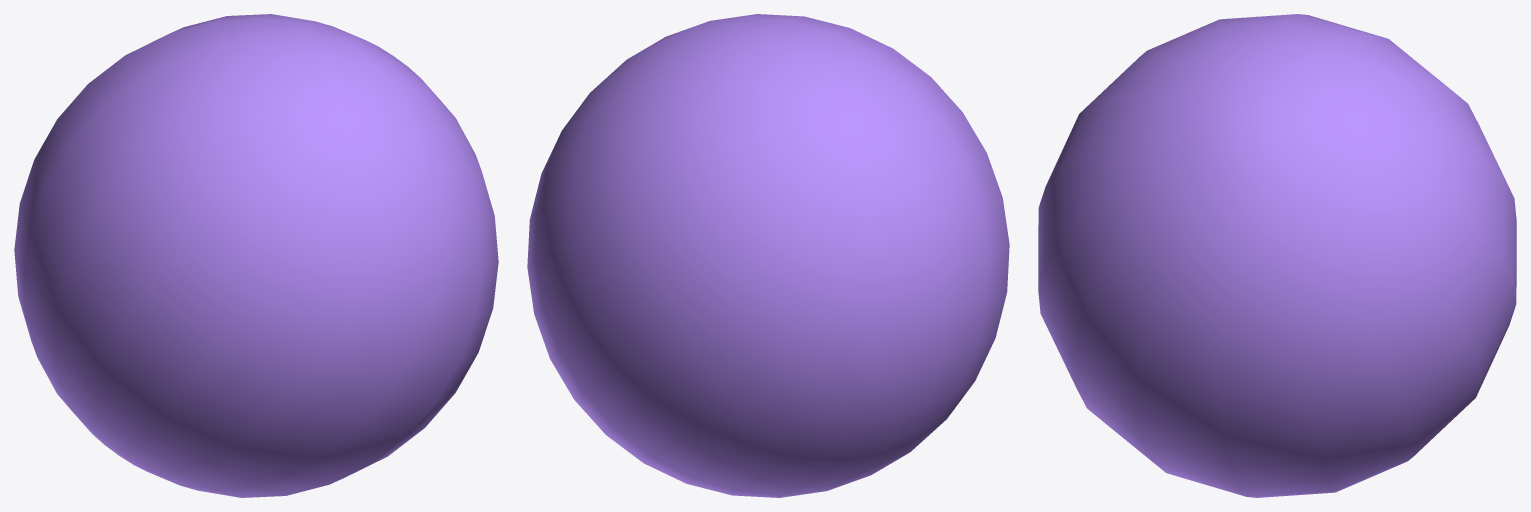
The picture shows the model from 3 angles, left to right: view 1: azimuth 30°, elevation 25°; view 2: azimuth 150°, elevation 25°; view 3: azimuth 270°, elevation 25°; orthographic projection.
Visible parts, largest first — view 1: orb6.008; view 2: orb6.008; view 3: orb6.008.
Boxes of the visible parts, <box> form: orb6.008: <box>14,14,498,497</box>; orb6.008: <box>527,14,1009,497</box>; orb6.008: <box>1038,14,1516,497</box>.
Size of the model in its own units: 0.3988 by 0.3996 by 0.3924.
